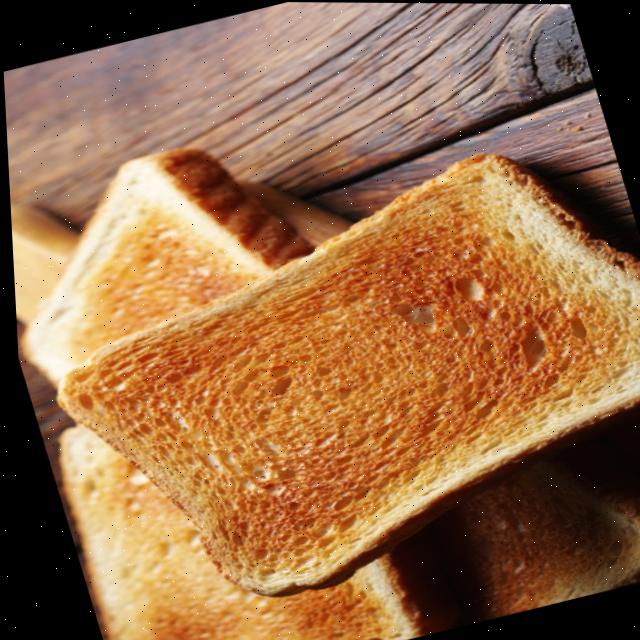Bread: (54, 152, 640, 594), (54, 425, 450, 640), (19, 147, 307, 382)
